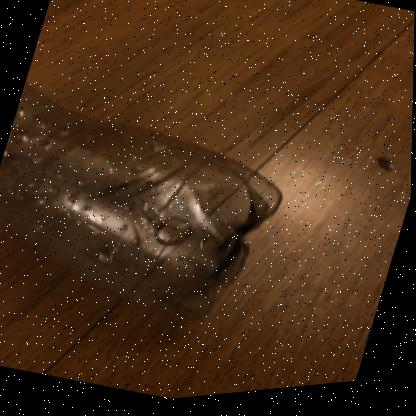Plastic: (0, 84, 281, 323)
